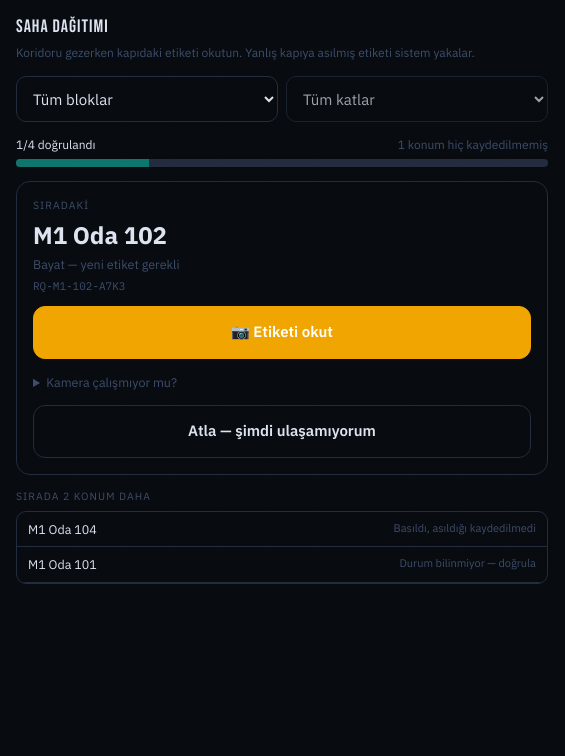
saha dağıtımı ekranı › elle işaretlemenin doğrulama sayılmadığını yazar
Step 1. Click the heading "Kamera çalışmıyor mu?" → point(112, 382), box left=46, top=374, right=177, bottom=390
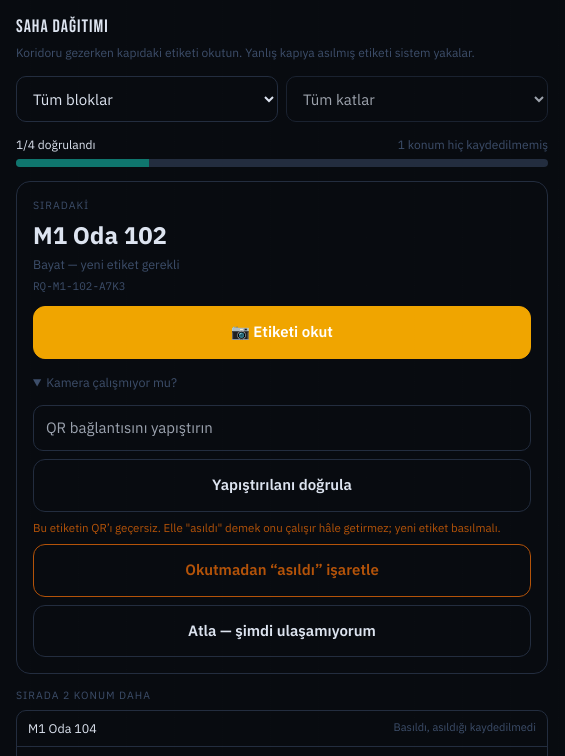
Expected: the text "çalışır hâle getirmez" is shown, left=33, top=520, right=501, bottom=535
